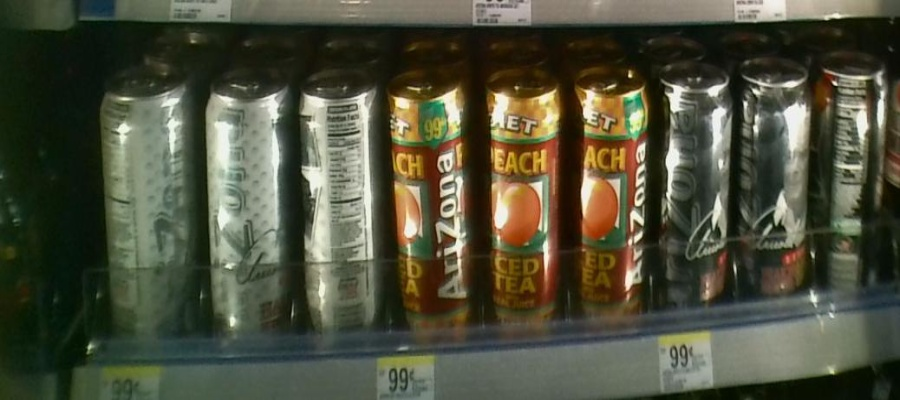bottle: (95, 63, 198, 342), (204, 62, 296, 352), (386, 57, 474, 345), (299, 53, 382, 345), (479, 55, 564, 340), (571, 58, 653, 335), (655, 48, 735, 321), (816, 39, 893, 321), (740, 41, 812, 306)
